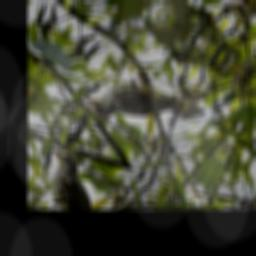Cuckoo: (80, 13, 235, 173)
